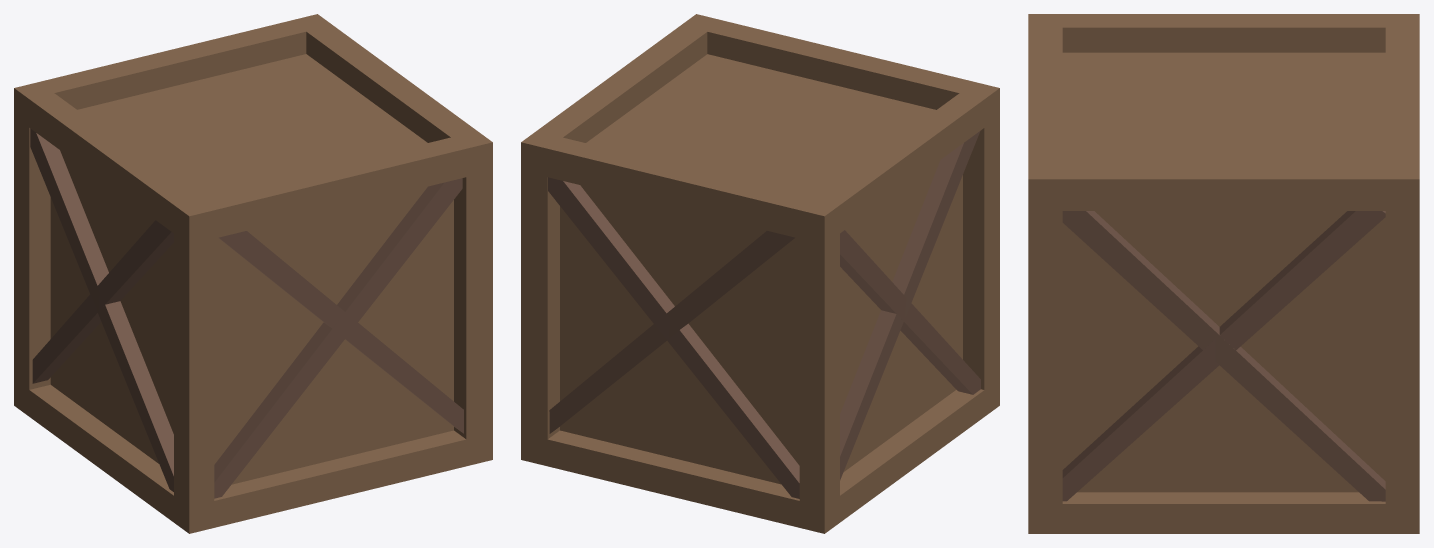
The model's file is Caja.fbx.
3 views of the same model, side by side, from view 1: azimuth 30°, elevation 25°; view 2: azimuth 150°, elevation 25°; view 3: azimuth 270°, elevation 25° (orthographic). The views are drawn at different scales.
Visible parts, largest first — view 1: pCube19, pCube30, pCube25, pCube24, pCube29; view 2: pCube19, pCube28, pCube29, pCube22, pCube25; view 3: pCube19, pCube26, pCube27.
Part boxes in pixels (x1,y1,x2,y2): pCube19: (14,14,492,533); pCube30: (214,178,462,498); pCube25: (30,128,173,491); pCube24: (218,231,463,433); pCube29: (32,220,173,383); pCube19: (521,14,999,533); pCube28: (548,177,799,498); pCube29: (840,131,980,480); pCube22: (549,231,794,433); pCube25: (840,230,980,394); pCube19: (1028,14,1419,533); pCube26: (1062,211,1385,501); pCube27: (1062,211,1385,501).
Size of the model in its own units: 1 by 1 by 1.
